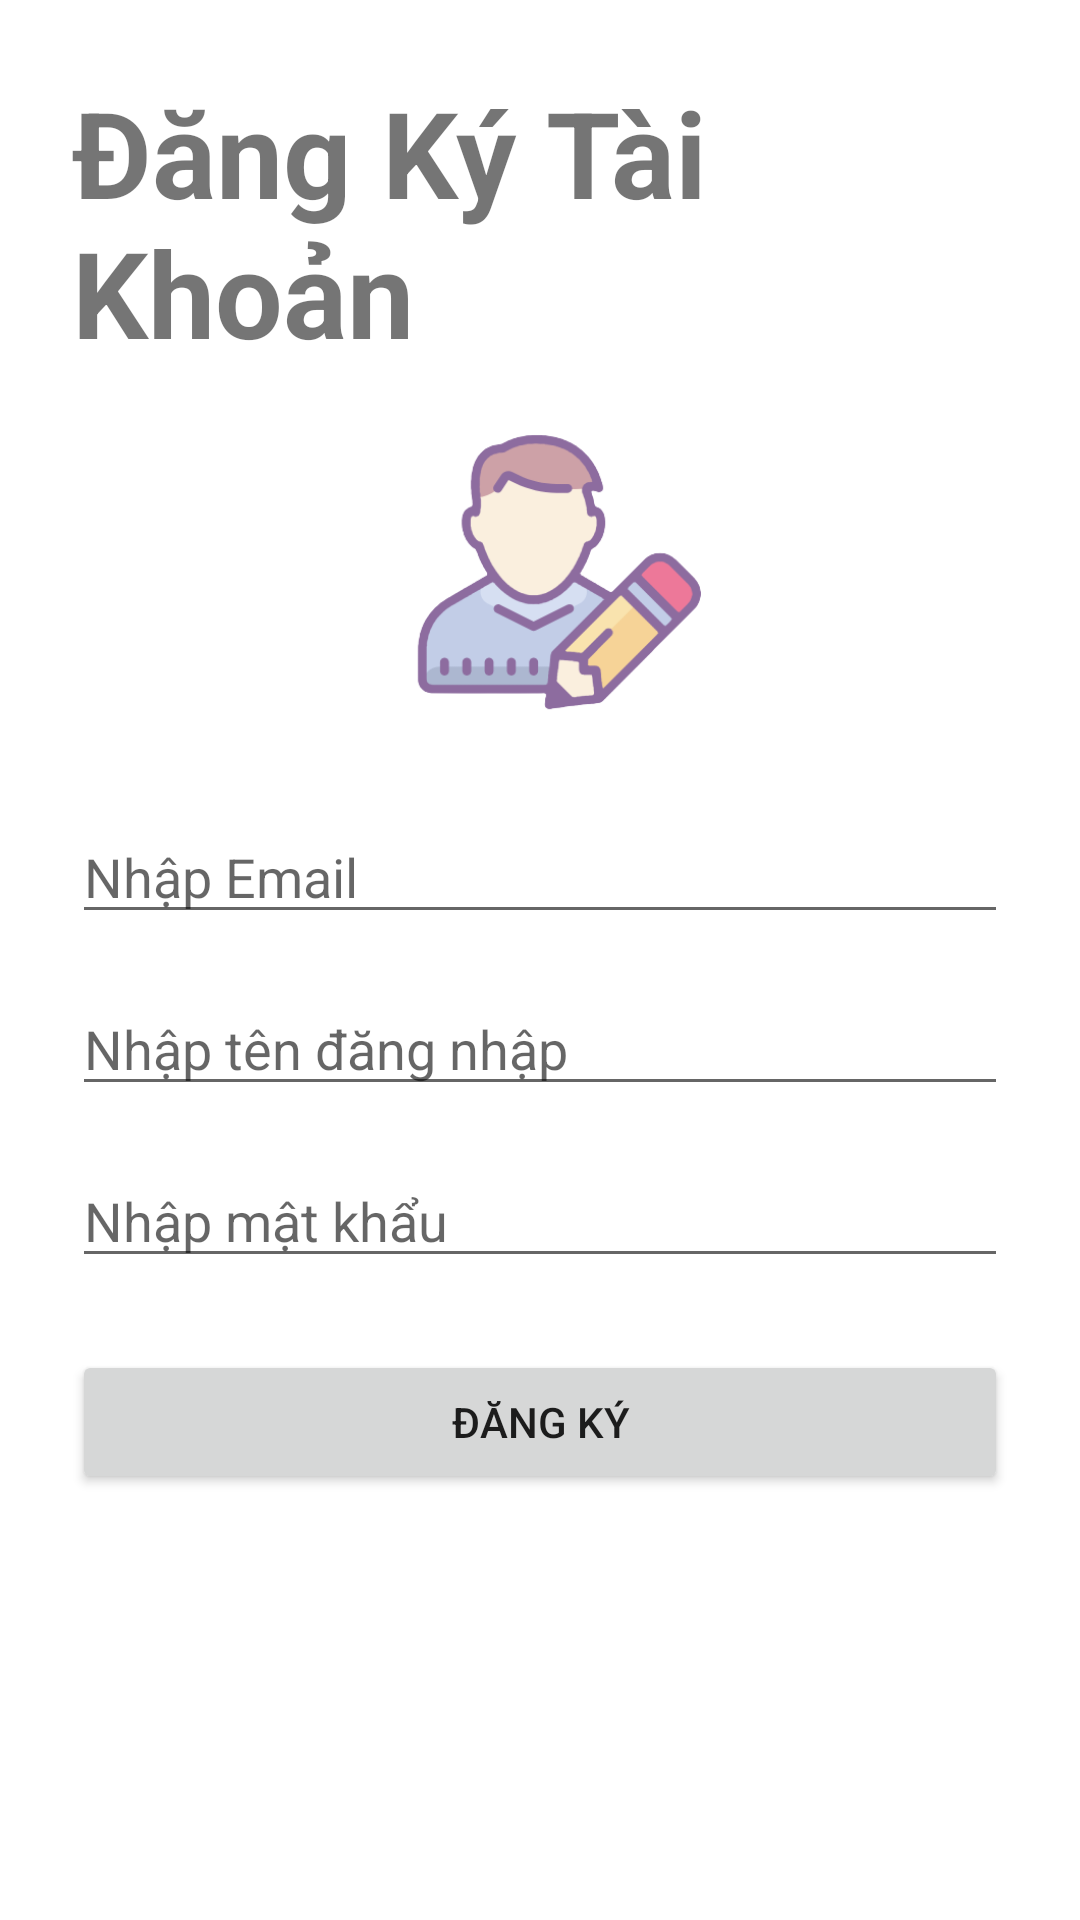

Point at icon controls on the screen. Image size 1080 × 1920, points as [x,y].
imageregister: [559,572]
